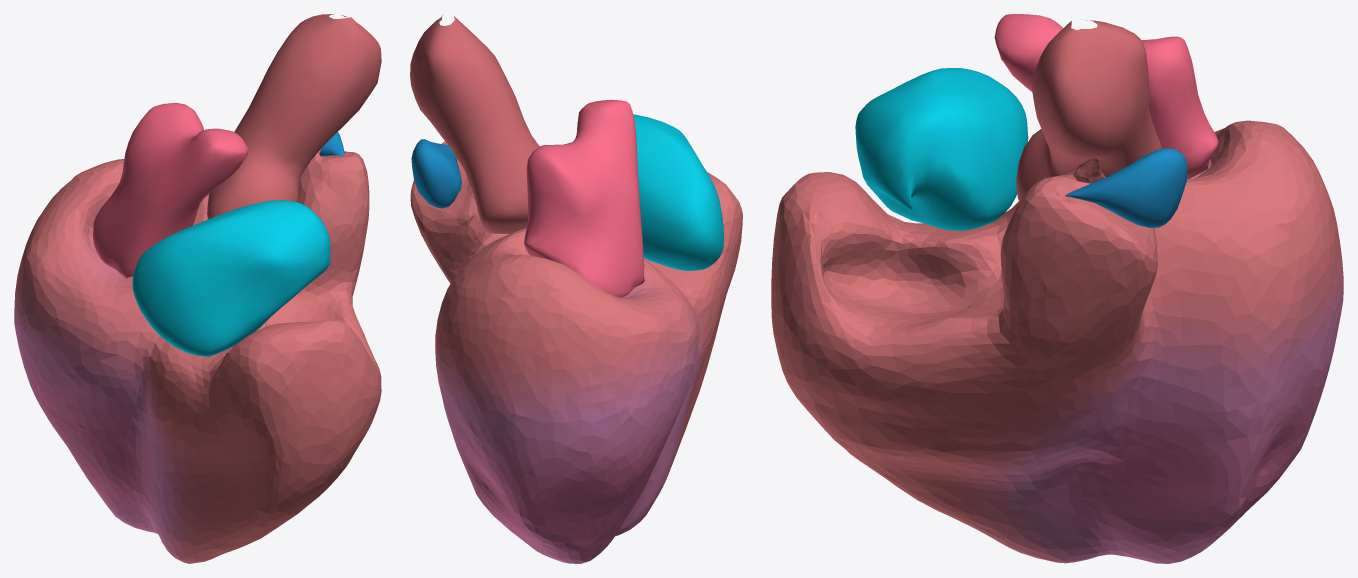
File: frame_64.glb
The picture shows the model from 3 angles, left to right: view 1: azimuth 30°, elevation 25°; view 2: azimuth 150°, elevation 25°; view 3: azimuth 270°, elevation 25°; orthographic projection. The views are drawn at different scales.
Visible parts, largest first — view 1: Renderer Node; view 2: Renderer Node; view 3: Renderer Node.
Part boxes in pixels (box(x1,y1,x2,y2)): Renderer Node: box(14, 14, 381, 563); Renderer Node: box(410, 15, 742, 563); Renderer Node: box(771, 14, 1343, 563).
Bounding box in the file's own units: 102 × 158 × 128.
